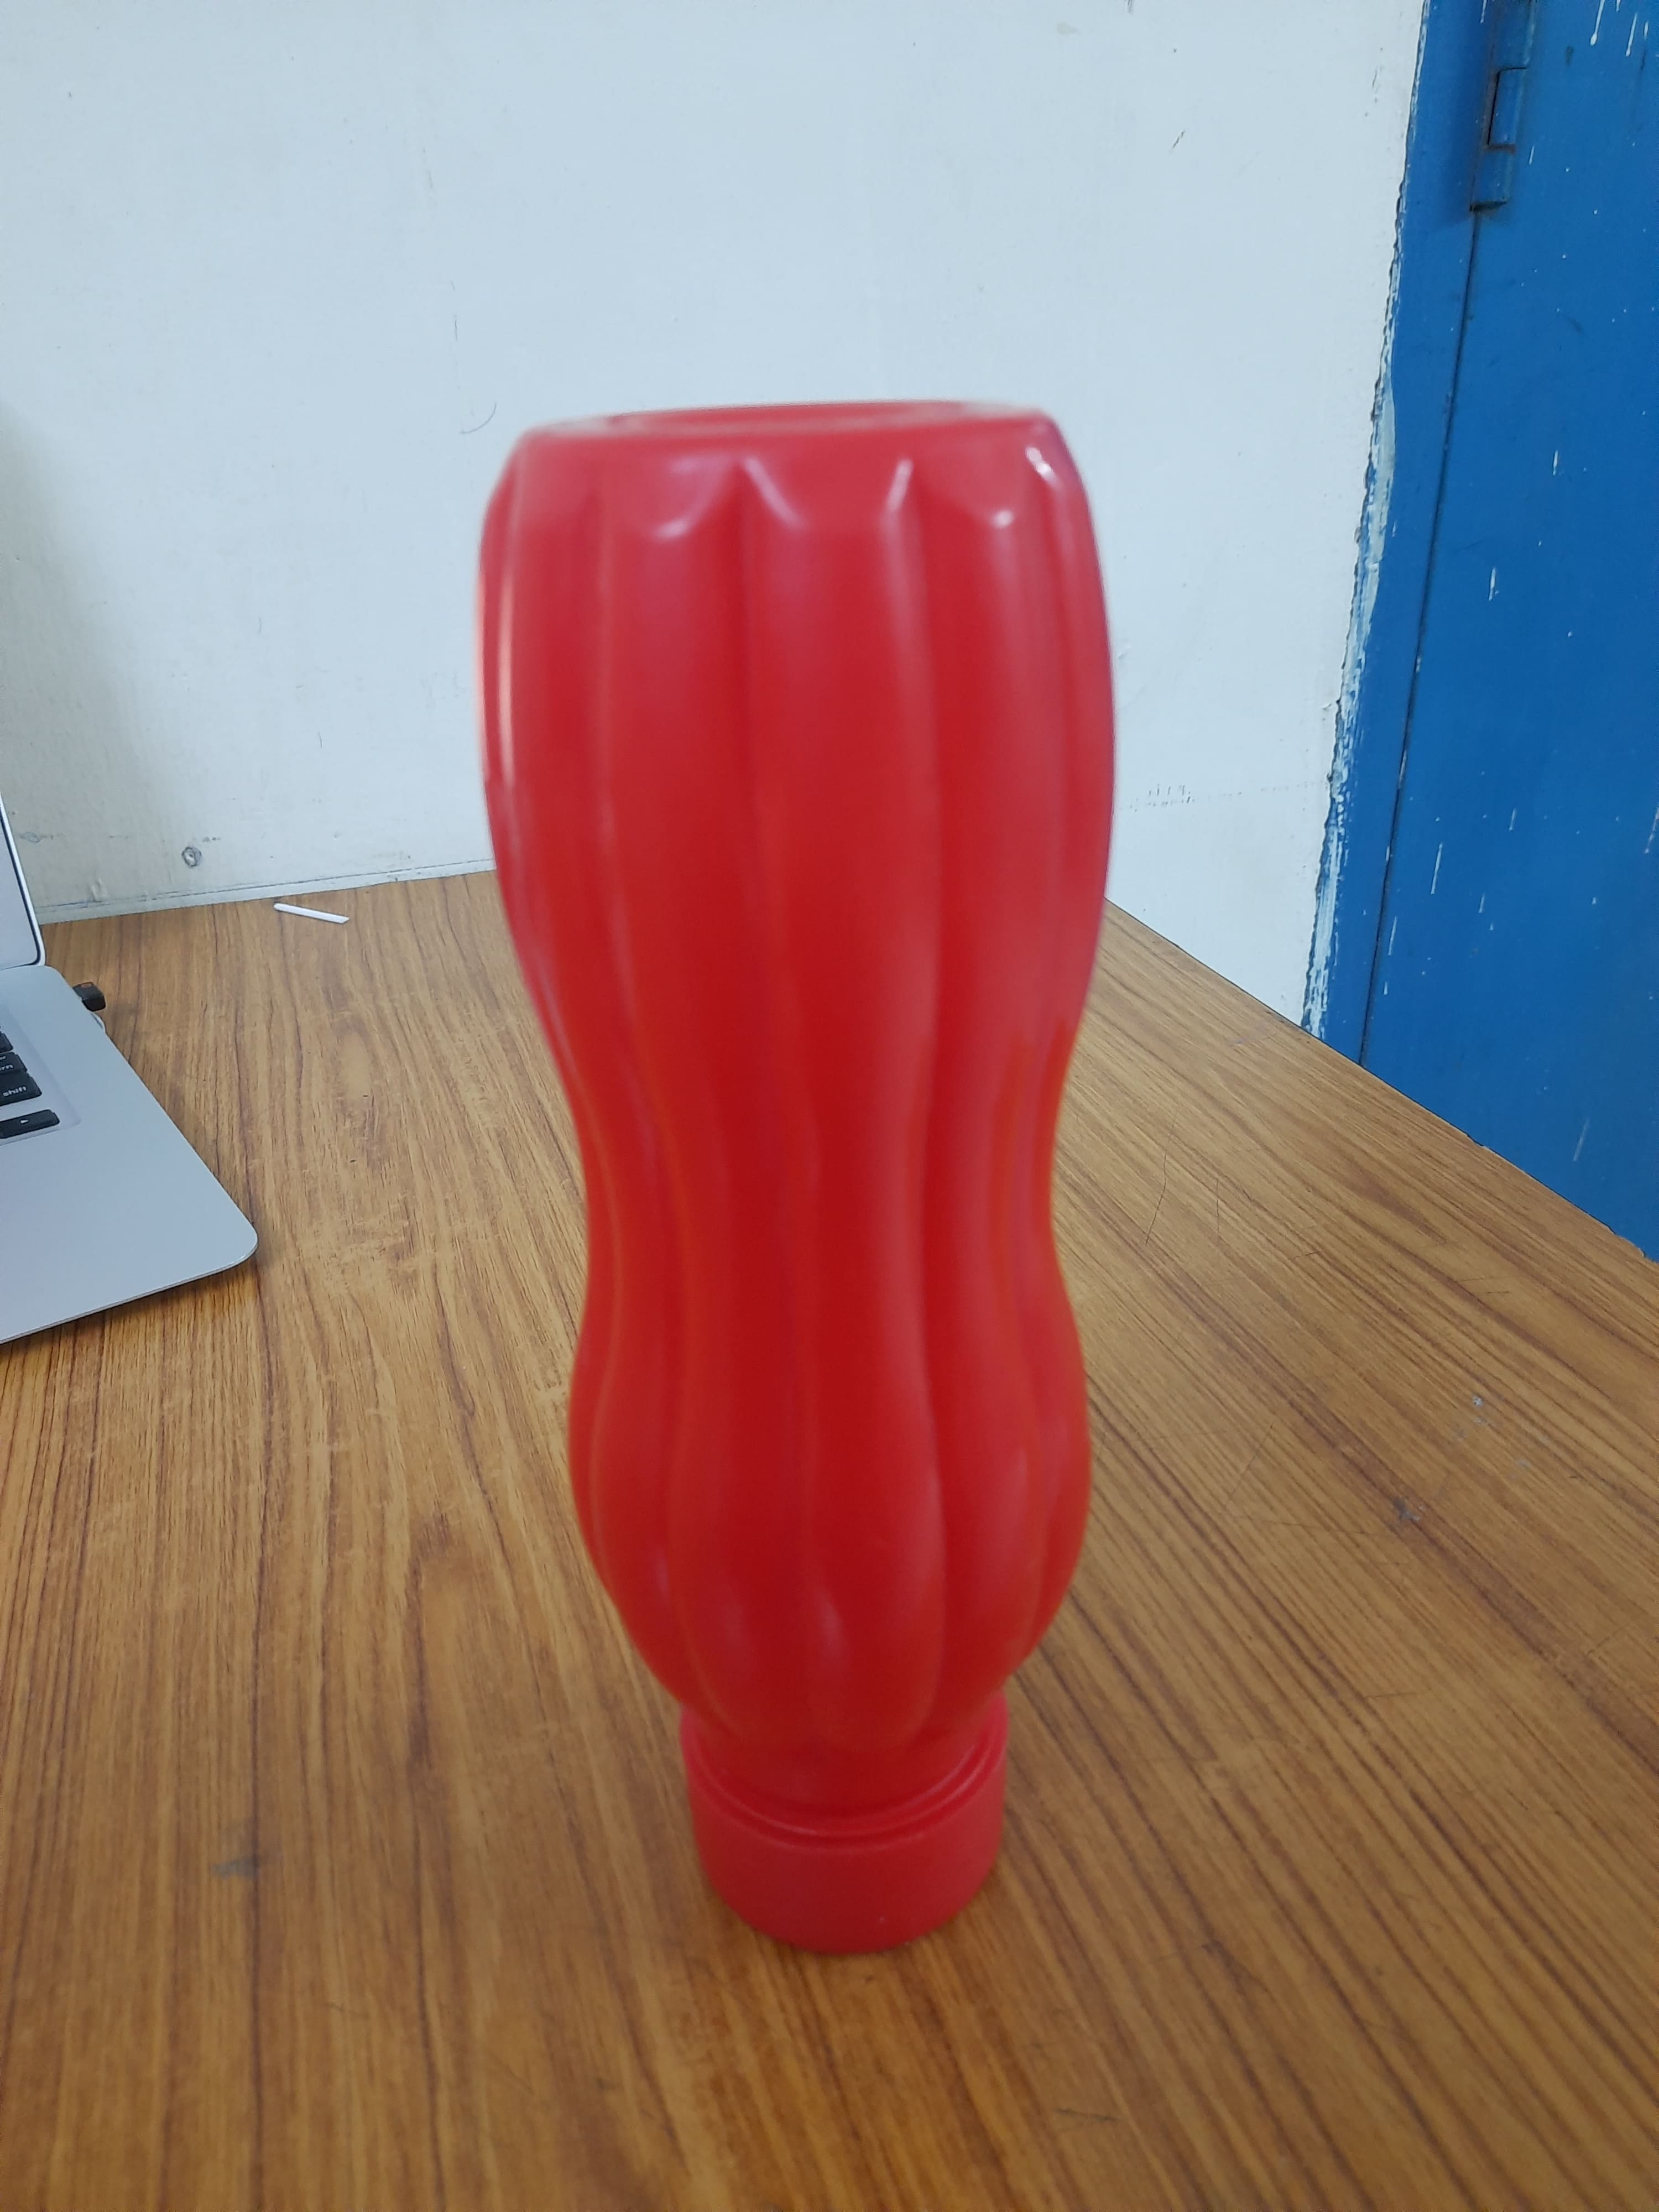Vikash's Water Bottle: (469, 390, 1148, 1961)
